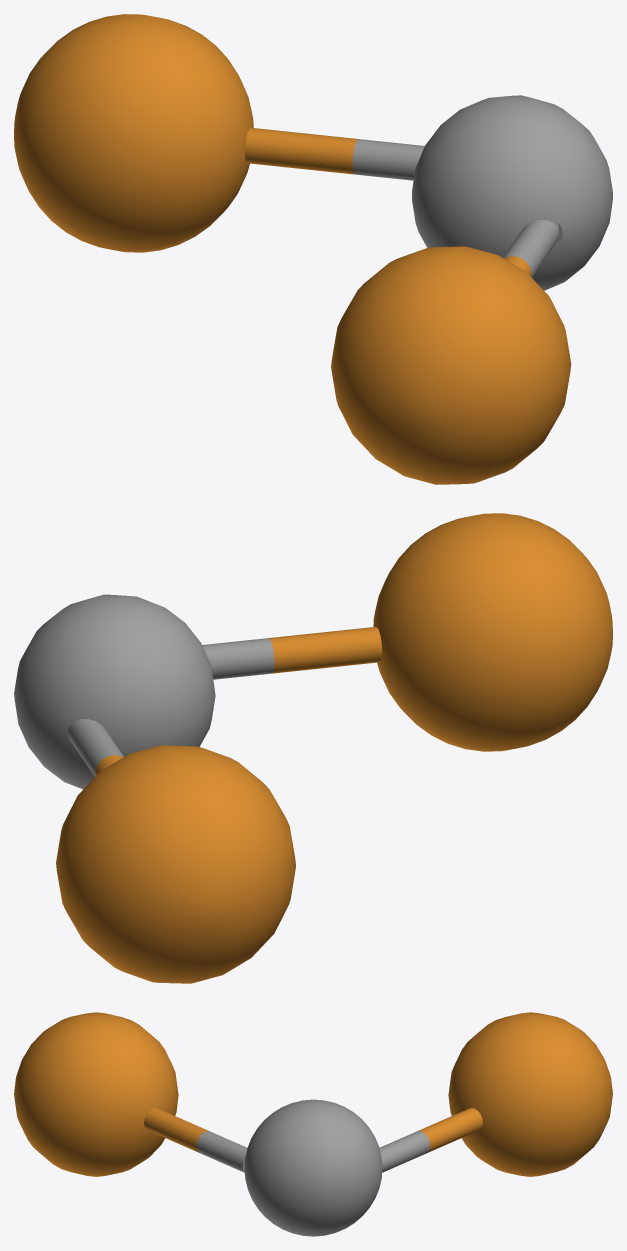
File: BeF2.fbx
3 renders of one model, top to bottom at view 1: azimuth 30°, elevation 25°; view 2: azimuth 150°, elevation 25°; view 3: azimuth 270°, elevation 25°, orthographic. The views are drawn at different scales.
Visible parts, largest first — view 1: BeF2; view 2: BeF2; view 3: BeF2.
Part boxes in pixels (box(x1,y1,x2,y2)): BeF2: box(14, 14, 612, 484); BeF2: box(14, 513, 612, 983); BeF2: box(14, 1012, 612, 1236).
Bounding box in the file's own units: 4.3 × 2.18 × 7.93.
